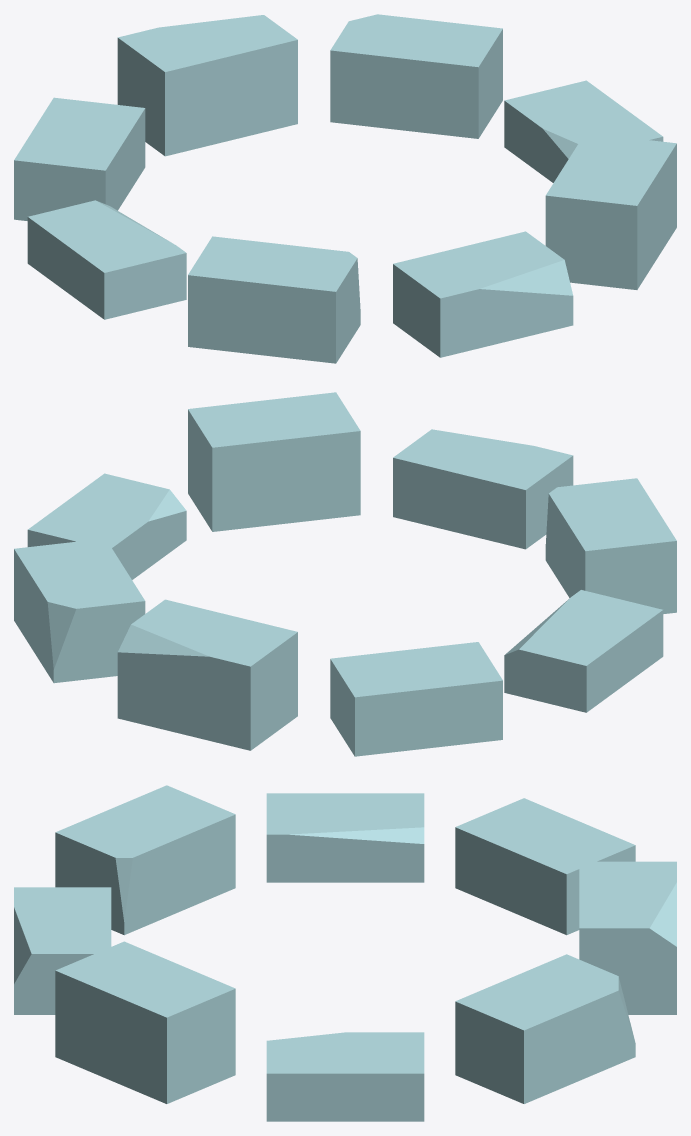
File: campfire-bricks.glb
The picture shows the model from 3 angles, top to bottom: view 1: azimuth 30°, elevation 25°; view 2: azimuth 150°, elevation 25°; view 3: azimuth 270°, elevation 25°; orthographic projection. The views are drawn at different scales.
Visible parts, largest first — view 1: campfire_bricks; view 2: campfire_bricks; view 3: campfire_bricks.
Boxes of the visible parts, x1=… form: campfire_bricks: x1=14, y1=14, x2=676, y2=363; campfire_bricks: x1=14, y1=392, x2=676, y2=756; campfire_bricks: x1=14, y1=785, x2=676, y2=1121.
Size of the model in its own units: 0.4692 by 0.0676 by 0.4692.
